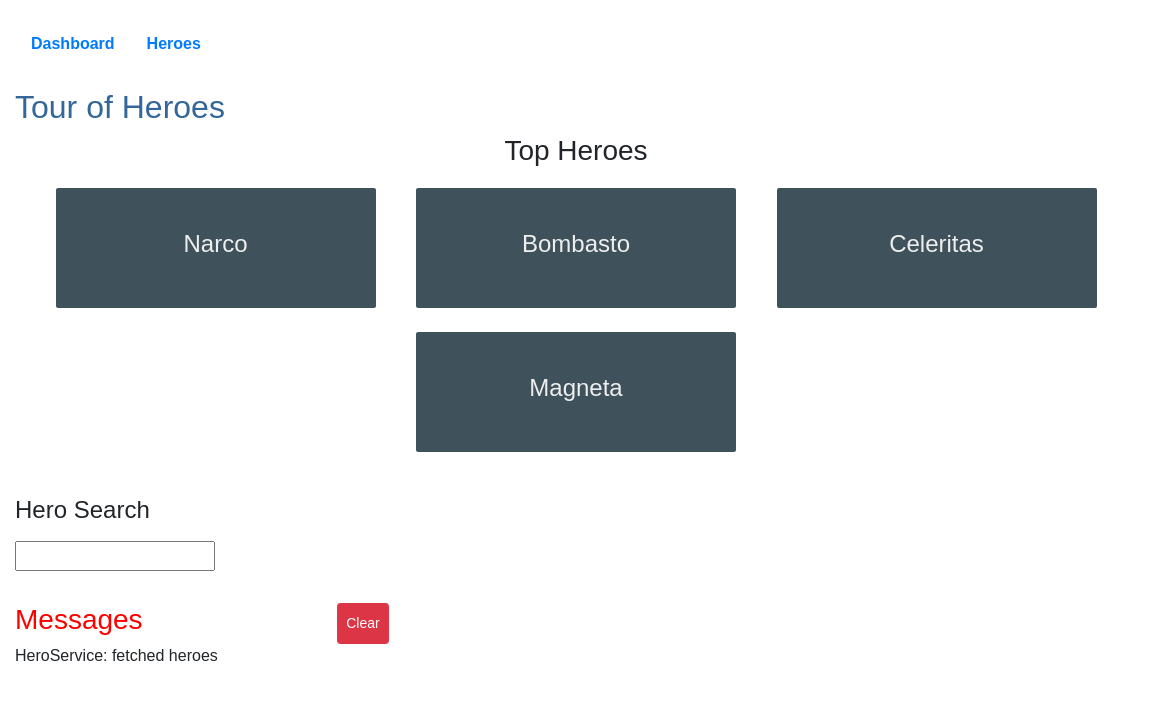
Scenario: Tour of Heroes - E2E tests › Dashboard tests › shows hero-detail component by clicking on a dashboard hero
Click the link "Narco": (216, 248) [56,176,376,320]
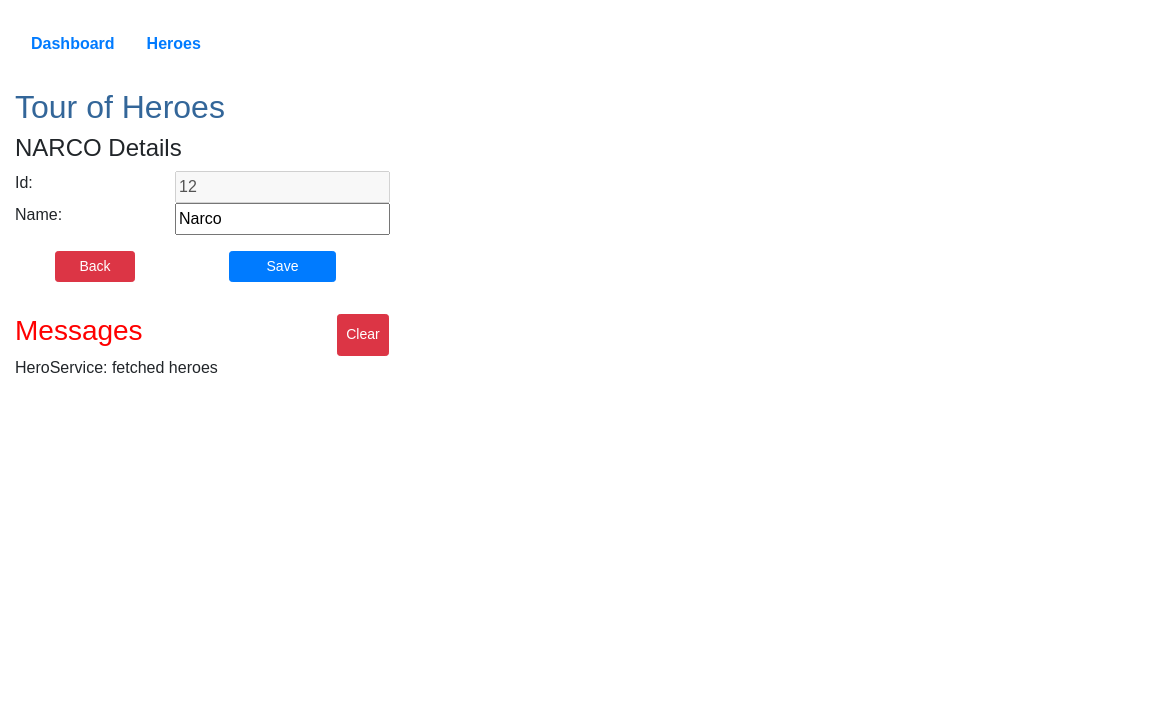
Expected: the element showing "NARCO Details Id: Name: Back Save" is shown, [15,134,390,282]
